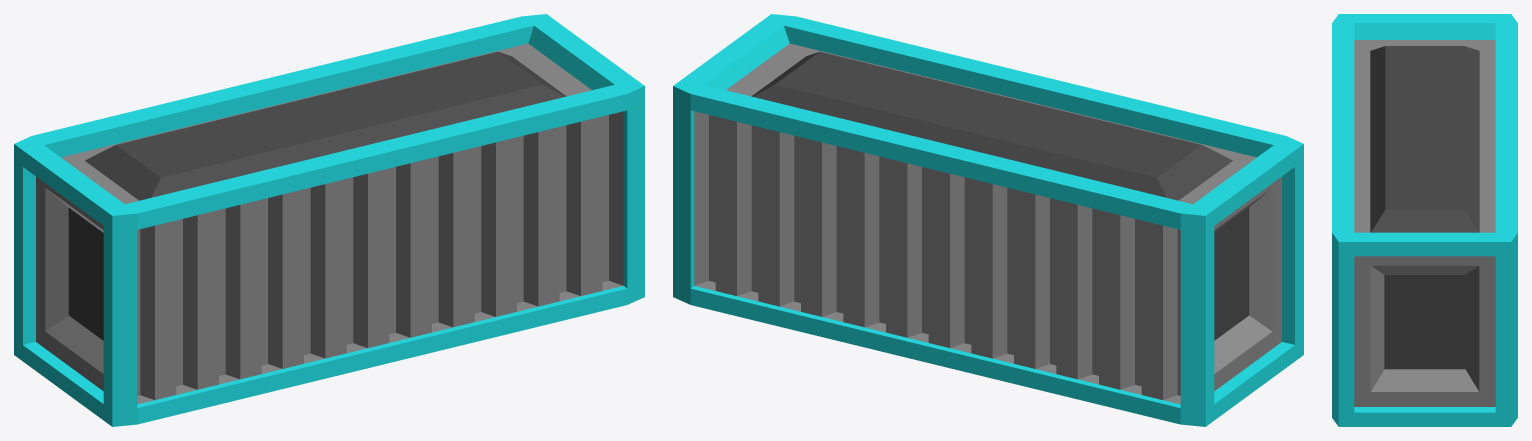
File: ContainerRed.fbx
The picture shows the model from 3 angles, left to right: view 1: azimuth 30°, elevation 25°; view 2: azimuth 150°, elevation 25°; view 3: azimuth 270°, elevation 25°; orthographic projection. The views are drawn at different scales.
Parts seen in each view (by area): view 1: ContainerRed; view 2: ContainerRed; view 3: ContainerRed.
Part boxes in pixels (x1=…): ContainerRed: x1=14, y1=14, x2=644, y2=426; ContainerRed: x1=673, y1=14, x2=1303, y2=426; ContainerRed: x1=1332, y1=14, x2=1517, y2=426.
Size of the model in its own units: 4.08 by 1.55 by 1.4.
